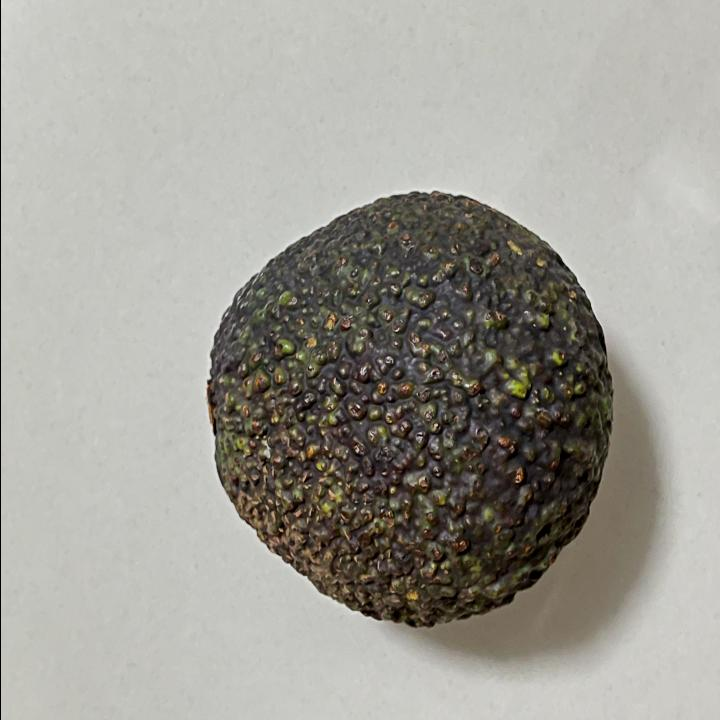Level1: (189, 174, 633, 644)
